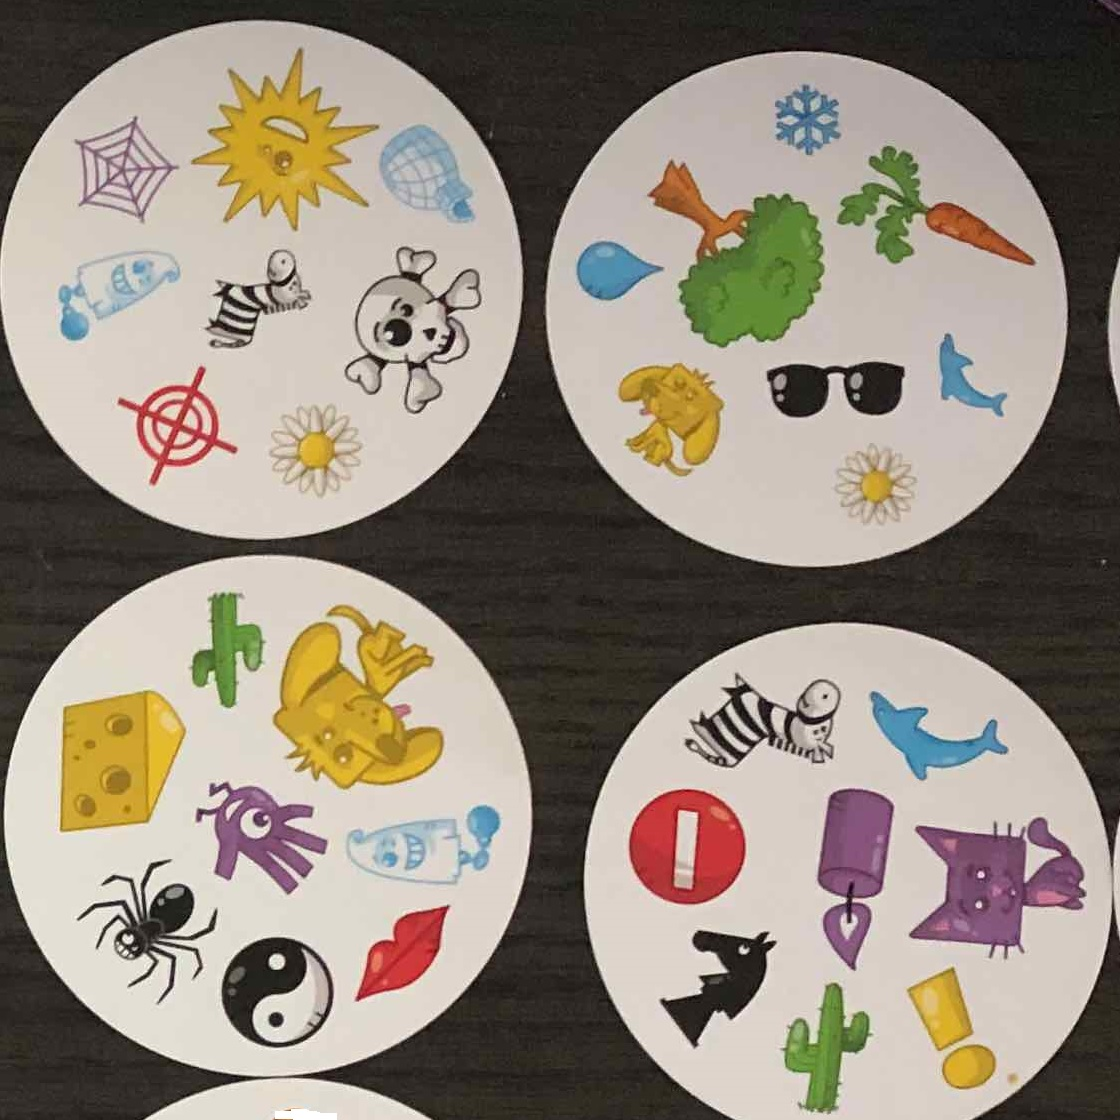araignee: (76, 855, 219, 1001)
arbre: (642, 159, 834, 341)
bouche: (346, 902, 459, 998)
bougie: (807, 787, 895, 971)
cactus: (773, 979, 876, 1120), (181, 586, 268, 712)
carotte: (825, 139, 1048, 279)
chat: (899, 813, 1094, 967)
cheval: (661, 918, 776, 1051)
chien: (266, 596, 451, 788), (605, 358, 732, 482)
cible: (111, 364, 240, 490)
dauphin: (867, 682, 1013, 785), (918, 329, 1019, 425)
dooble: (195, 773, 335, 896)
fantome: (332, 800, 509, 890), (55, 241, 182, 349)
fleur: (266, 401, 366, 503), (827, 442, 922, 525)
flocon: (766, 82, 845, 159)
fromage: (50, 682, 190, 839)
goutte: (569, 237, 668, 310)
igloo: (371, 121, 489, 230)
lunette: (760, 346, 911, 428)
point_exclamation: (903, 963, 1000, 1098)
sens_interdit: (626, 784, 753, 912)
soleil: (189, 50, 382, 234)
tete_mort: (337, 239, 482, 417)
toile: (63, 111, 189, 230)
ying_yang: (216, 928, 339, 1054)
zebre: (682, 662, 849, 778), (195, 241, 326, 359)
